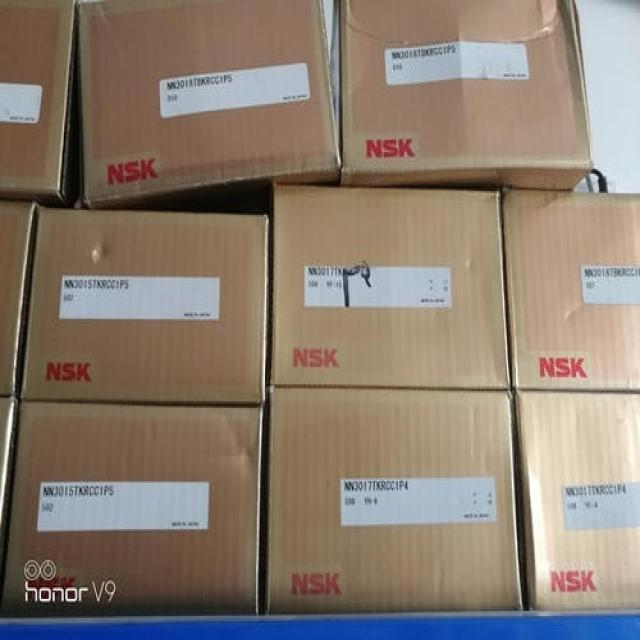Carton: (270, 394, 518, 611), (74, 0, 339, 203), (3, 406, 256, 614), (339, 0, 589, 184), (274, 188, 508, 384), (24, 210, 265, 398), (504, 193, 639, 386), (517, 394, 639, 606)
